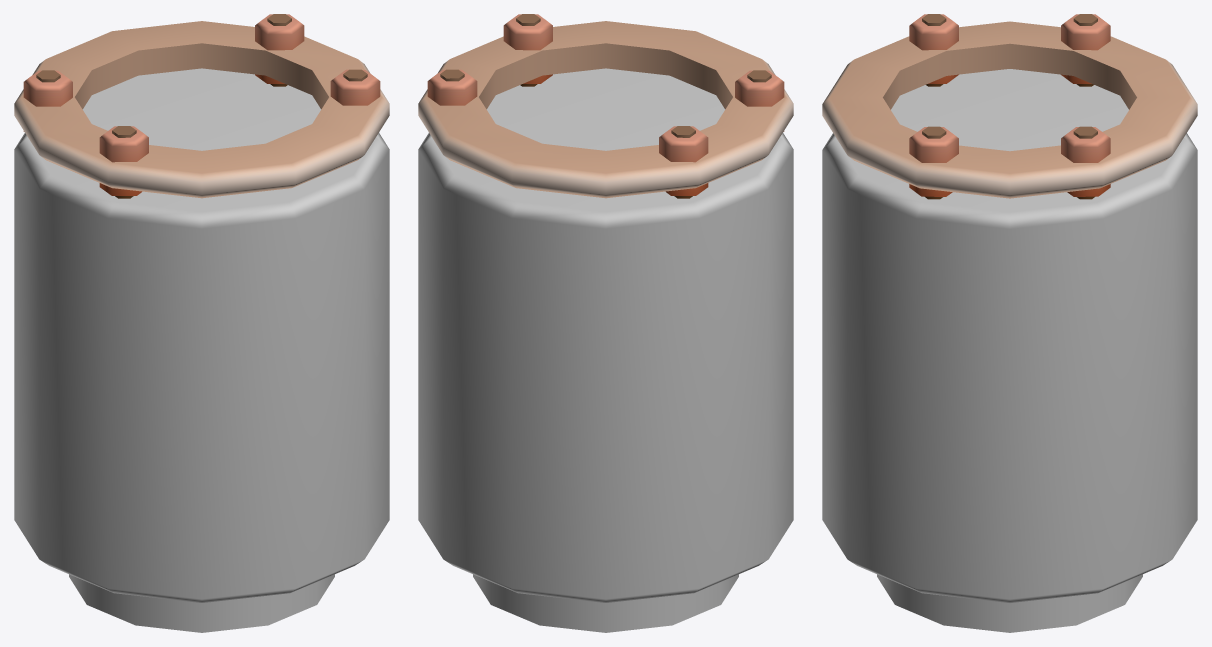
Rendered from pillar_003.fbx.
The picture shows the model from 3 angles, left to right: view 1: azimuth 30°, elevation 25°; view 2: azimuth 150°, elevation 25°; view 3: azimuth 270°, elevation 25°; orthographic projection.
Parts seen in each view (by area): view 1: pillar_003; view 2: pillar_003; view 3: pillar_003.
Boxes of the visible parts, box(x1,y1,x2,y2) form: pillar_003: box(14, 14, 389, 632); pillar_003: box(418, 14, 793, 632); pillar_003: box(822, 14, 1197, 632).
Size of the model in its own units: 137 by 137 by 203.
